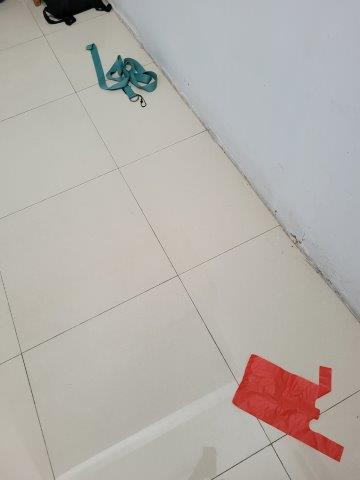plastik: (232, 356, 346, 465)
